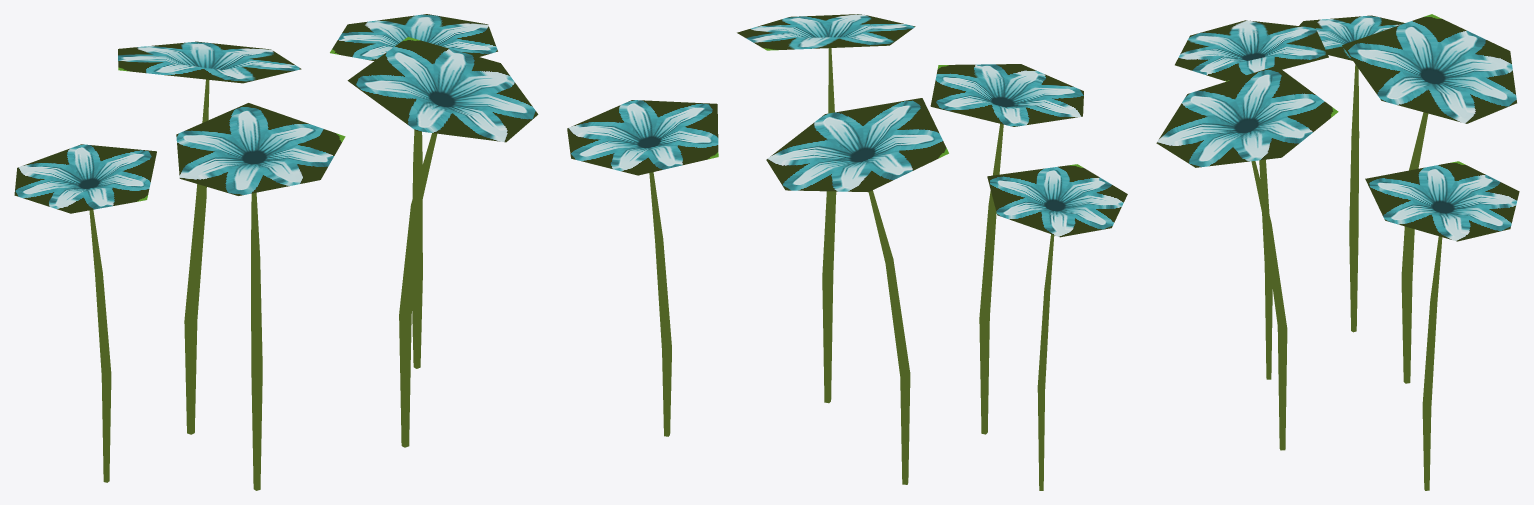
The model's file is flowers_08.fbx.
The picture shows the model from 3 angles, left to right: view 1: azimuth 30°, elevation 25°; view 2: azimuth 150°, elevation 25°; view 3: azimuth 270°, elevation 25°; orthographic projection. The views are drawn at different scales.
Visible parts, largest first — view 1: flowers_08; view 2: flowers_08; view 3: flowers_08.
Part boxes in pixels (left/top/right/bottom): flowers_08: left=14, top=14, right=538, bottom=490; flowers_08: left=567, top=14, right=1127, bottom=490; flowers_08: left=1156, top=14, right=1519, bottom=490.
Size of the model in its own units: 81.03 by 57.01 by 52.75.
